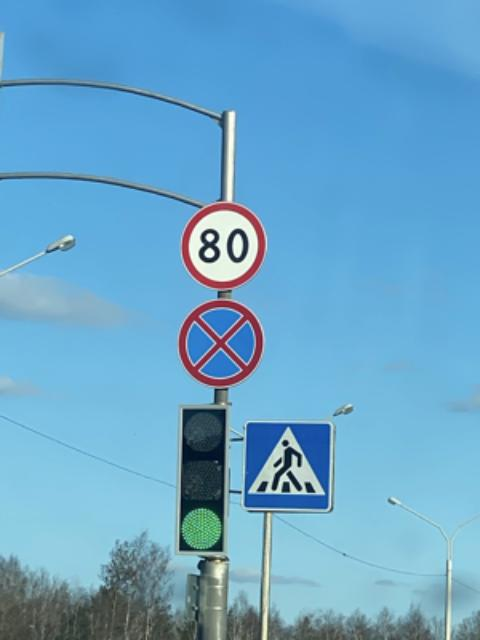crosswalk-sign: (241, 419, 335, 515)
